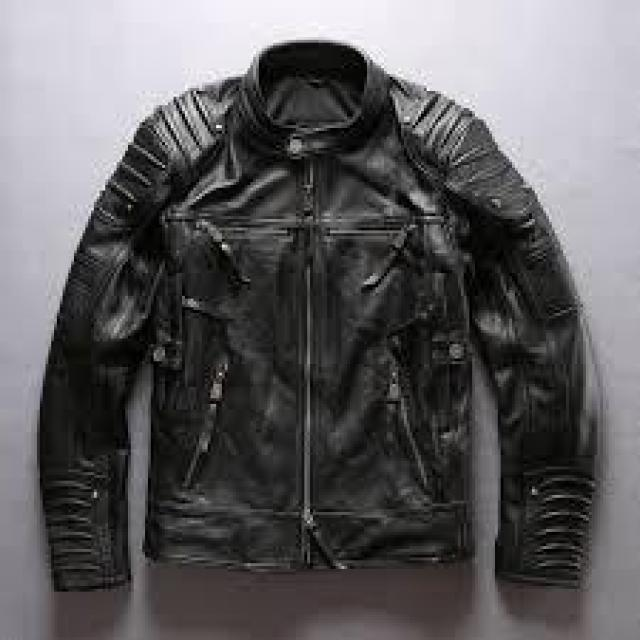jacket: (38, 44, 584, 590)
